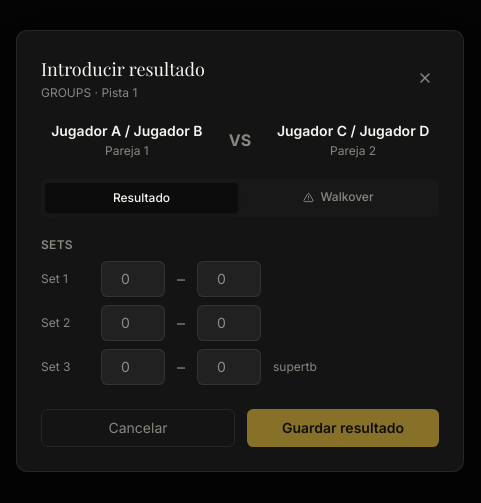
Test: ResultModal › rechaza supertiebreak empatado (10-10) en set 3 para BEST_OF_2_SUPERTB
Type "6" into the 1st number field with placeholder "0" at (133, 279), box [101,261,165,297]
Type "3" into the 1st number field with placeholder "0" at (229, 279), box [197,261,261,297]
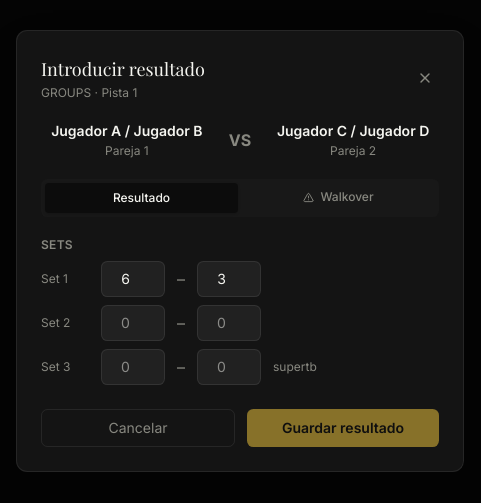
Type "3" into the 1st number field with placeholder "0" at (133, 323), box [101,305,165,341]
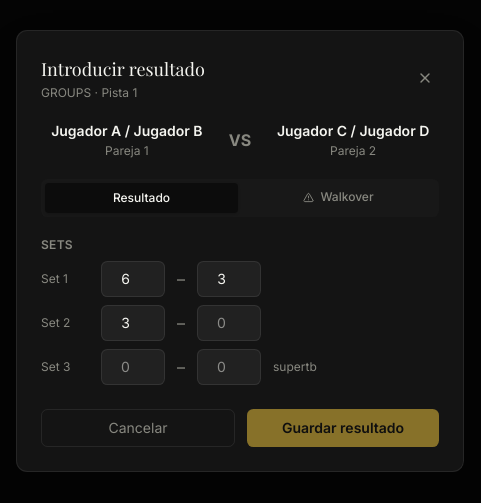
Type "6" into the 1st number field with placeholder "0" at (229, 323), box [197,305,261,341]
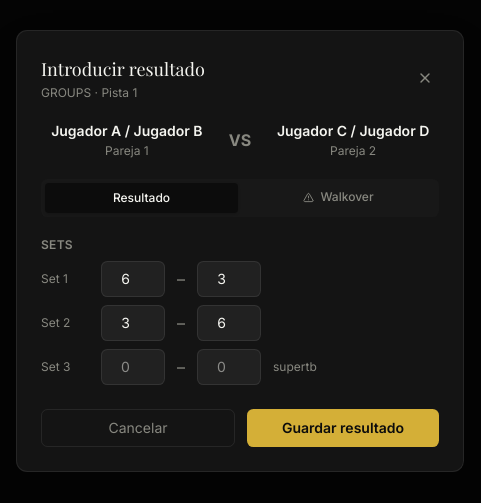
Type "10" into the 1st number field with placeholder "0" at (133, 367), box [101,349,165,385]
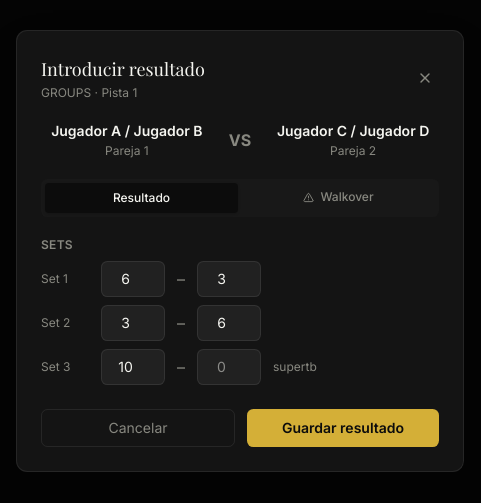
Type "10" into the number field with placeholder "0" at (229, 367), box [197,349,261,385]
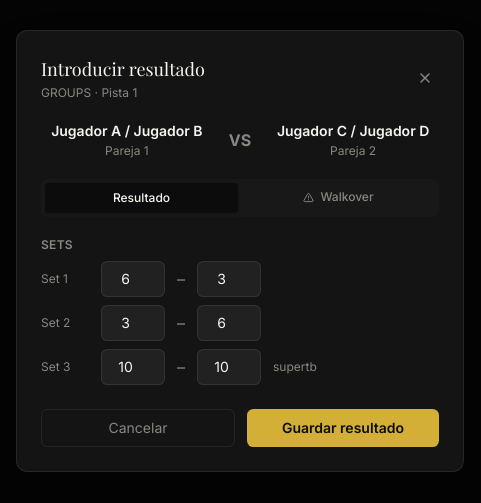
Click the button "Guardar resultado" at (343, 428), box [247,409,439,447]
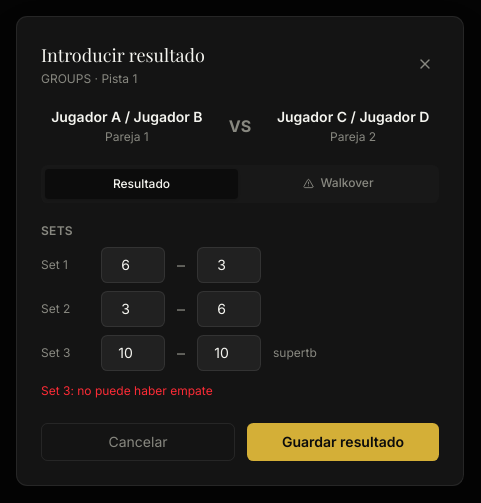
Expected: the text "Set 3: no puede haber empate" is shown, [41,383,213,398]
